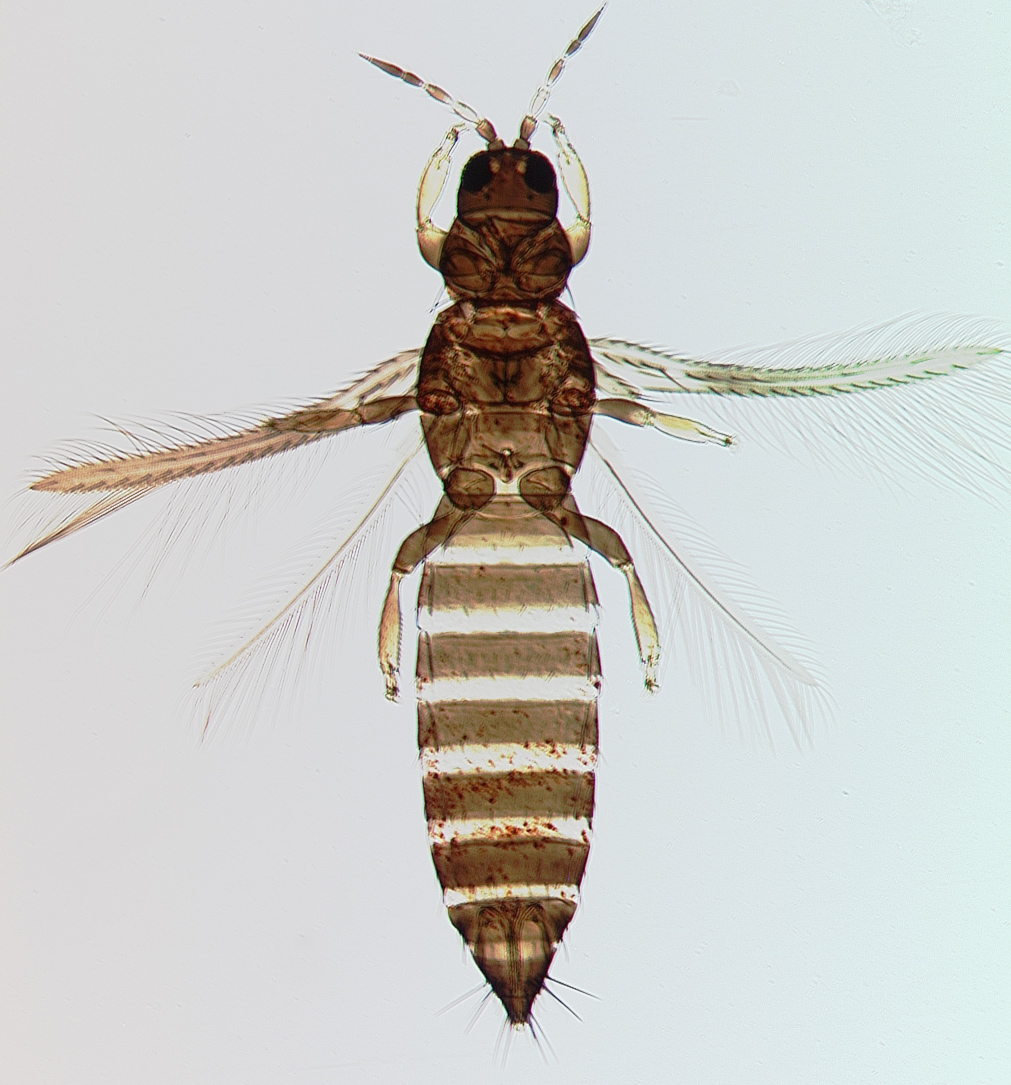Thripidae: (10, 1, 1011, 1037)
